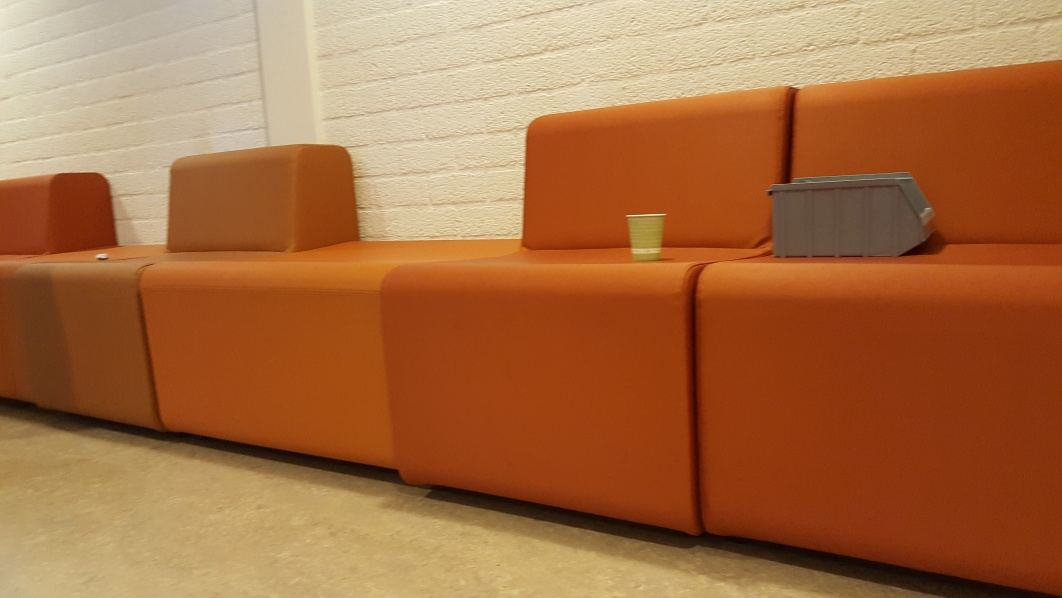cup: (624, 211, 669, 260)
tray: (768, 169, 935, 259)
